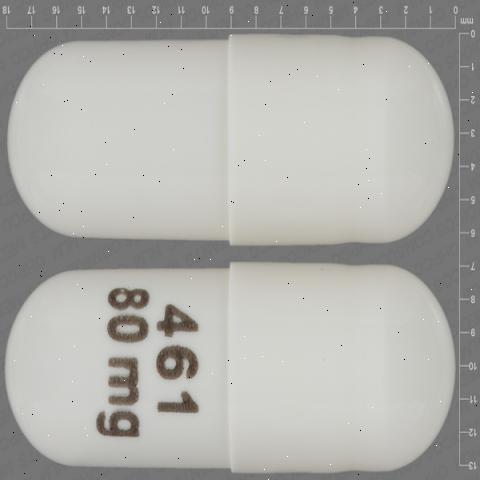Pill: (0, 23, 466, 254), (1, 257, 469, 475)
